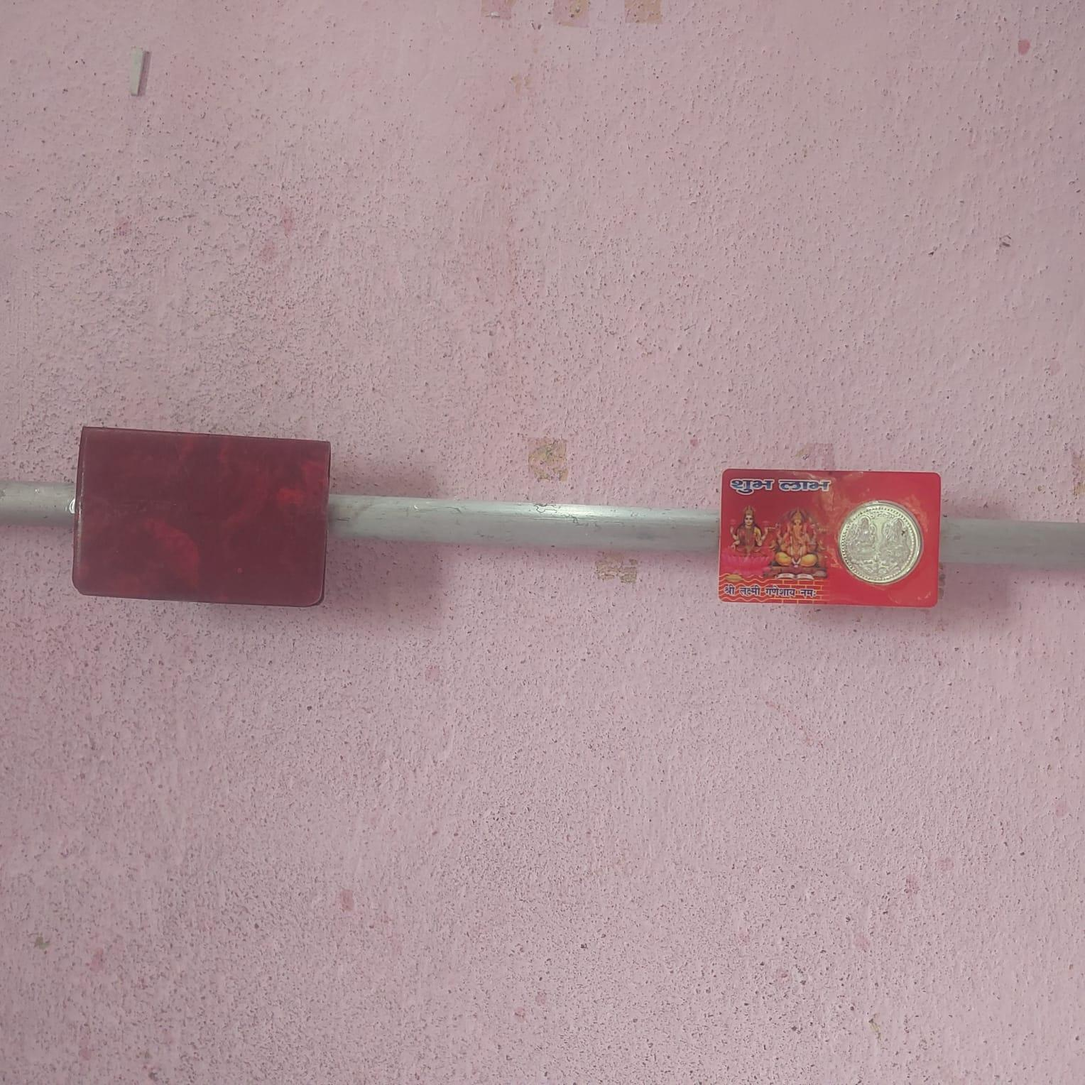blessing_card: (716, 469, 949, 611)
wallet: (71, 425, 338, 606)
